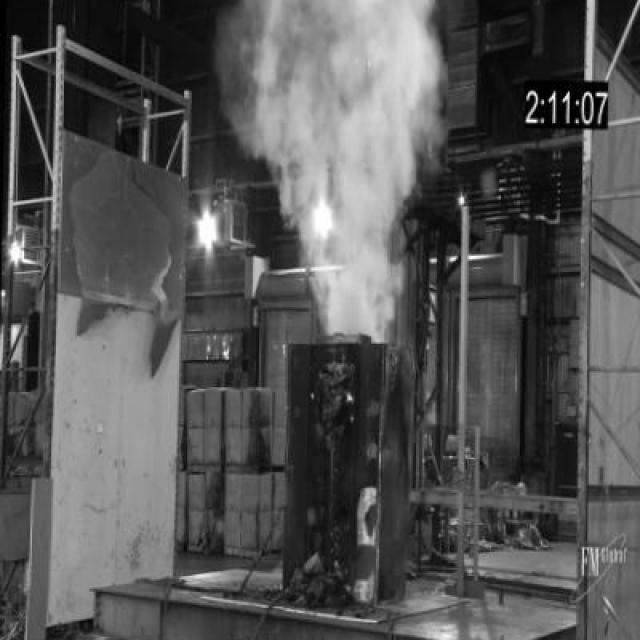fire: (244, 0, 446, 310)
